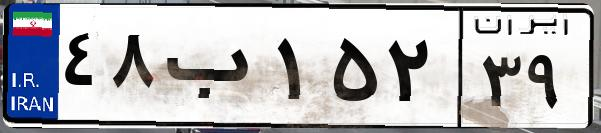1: (270, 28, 330, 110)
2: (385, 28, 445, 110)
3: (475, 38, 525, 113)
4: (57, 26, 110, 100)
5: (330, 28, 385, 110)
8: (110, 28, 158, 98)
9: (525, 38, 570, 115)
ب: (158, 20, 270, 120)
